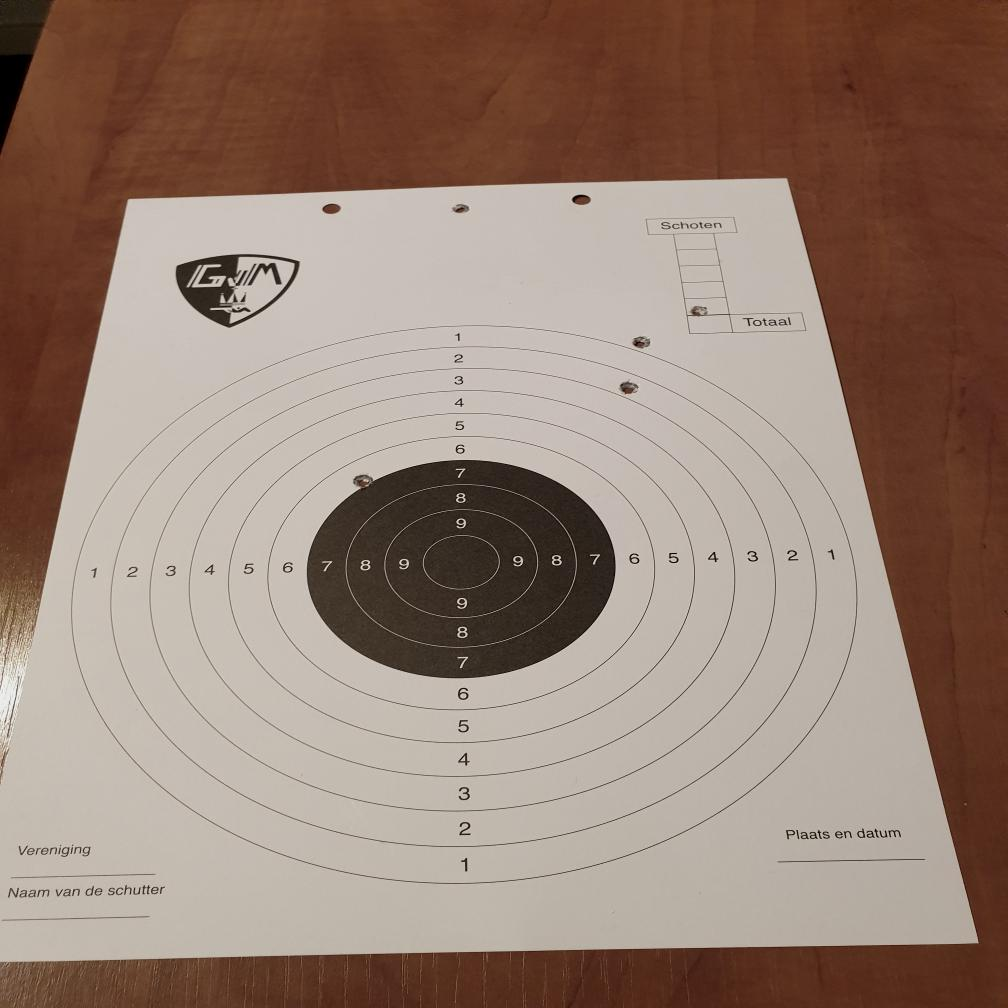0: (631, 335, 651, 349), (688, 305, 709, 317), (450, 203, 470, 214)
2: (617, 378, 639, 396)
7: (352, 473, 376, 490)
Target: (67, 322, 859, 890)
black_contour: (306, 458, 615, 679)
